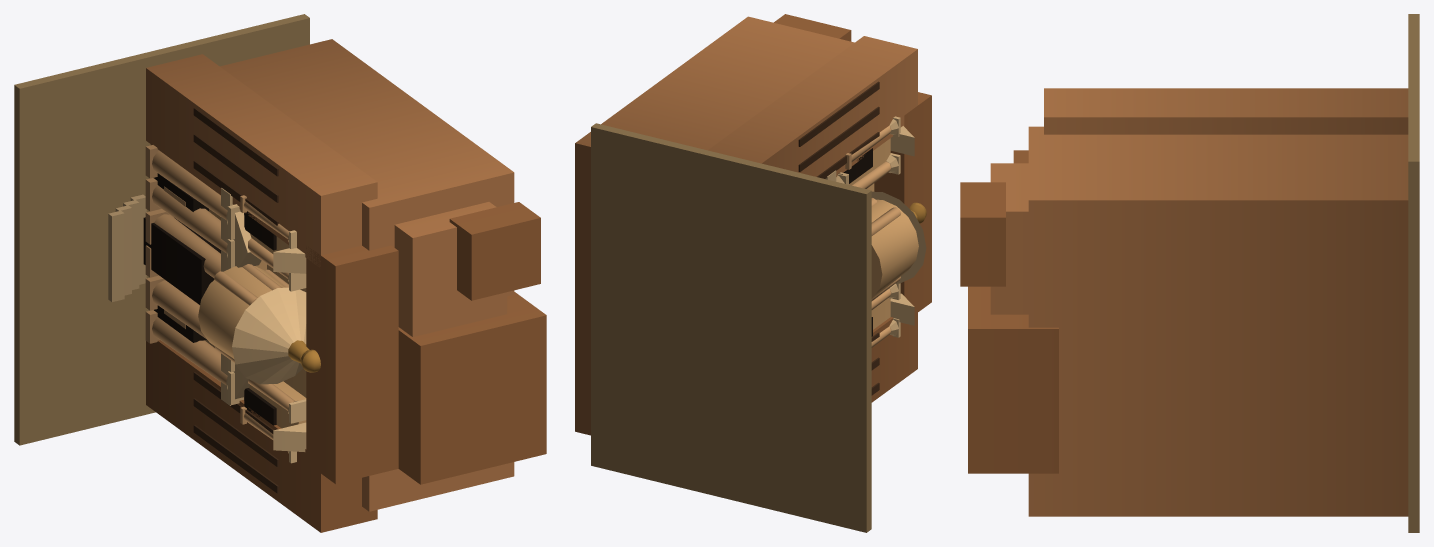
File: petra.glb
The picture shows the model from 3 angles, left to right: view 1: azimuth 30°, elevation 25°; view 2: azimuth 150°, elevation 25°; view 3: azimuth 270°, elevation 25°; orthographic projection. The views are drawn at different scales.
Parts seen in each view (by area): view 1: part-rockShade, part-rock, part-ground, part-trim, part-column, part-dark, part-facade, part-rockDeep, part-gold; view 2: part-ground, part-rock, part-rockShade, part-facade, part-trim, part-rockDeep, part-column, part-dark; view 3: part-rock, part-rockShade, part-ground.
Part boxes in pixels (x1=…): part-rockShade: x1=146, y1=202, x2=546, y2=532; part-rock: x1=146, y1=39, x2=514, y2=511; part-ground: x1=14, y1=14, x2=309, y2=445; part-trim: x1=108, y1=188, x2=306, y2=463; part-column: x1=145, y1=145, x2=295, y2=439; part-dark: x1=143, y1=173, x2=276, y2=425; part-facade: x1=198, y1=209, x2=306, y2=428; part-rockDeep: x1=193, y1=107, x2=278, y2=493; part-gold: x1=288, y1=340, x2=320, y2=372; part-ground: x1=591, y1=123, x2=871, y2=532; part-rock: x1=575, y1=16, x2=917, y2=435; part-rockShade: x1=774, y1=14, x2=931, y2=402; part-facade: x1=849, y1=138, x2=918, y2=329; part-trim: x1=825, y1=116, x2=926, y2=337; part-rockDeep: x1=798, y1=81, x2=879, y2=395; part-column: x1=845, y1=125, x2=900, y2=347; part-dark: x1=843, y1=148, x2=872, y2=336; part-rock: x1=990, y1=88, x2=1408, y2=516; part-rockShade: x1=960, y1=150, x2=1058, y2=473; part-ground: x1=1408, y1=14, x2=1419, y2=532.
Size of the model in its own units: 1 by 1.08 by 1.21.
